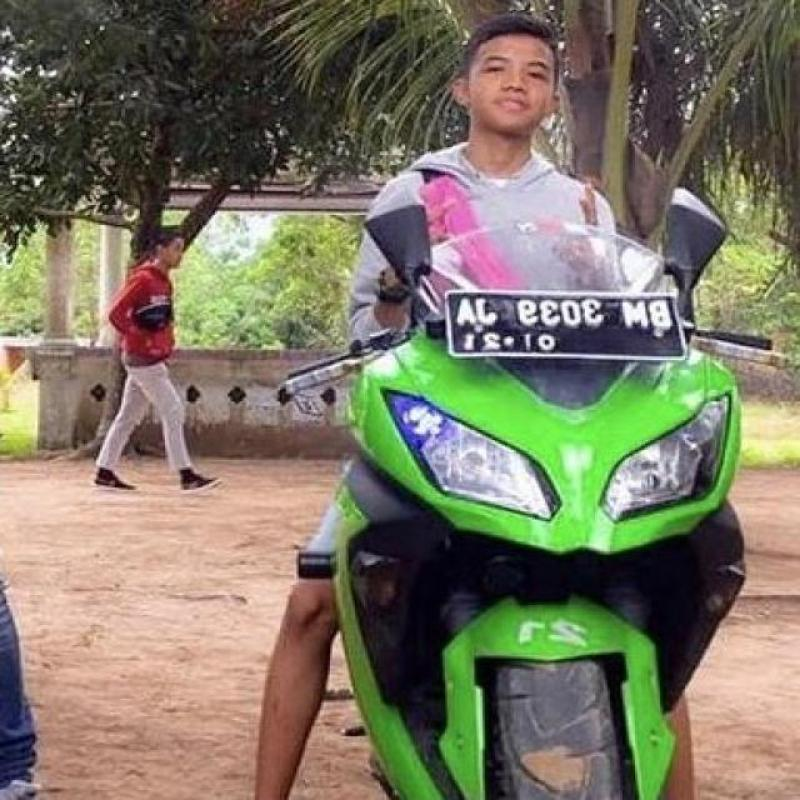nohelmet: (428, 11, 590, 163)
